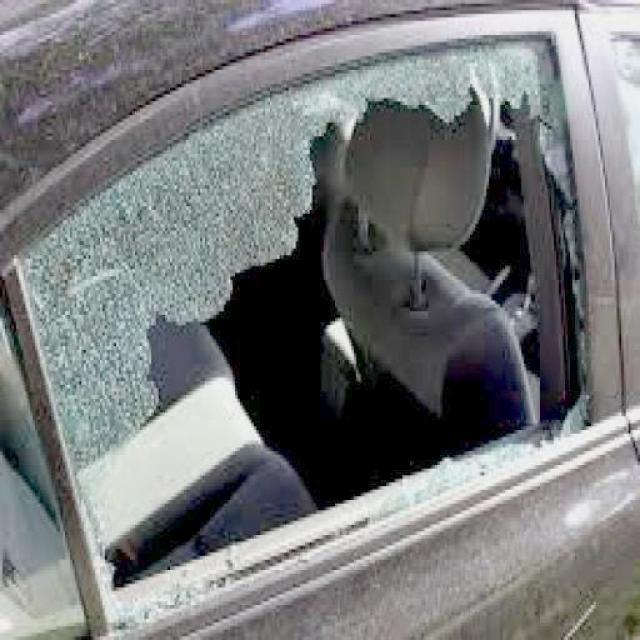car damage: (11, 30, 601, 632)
